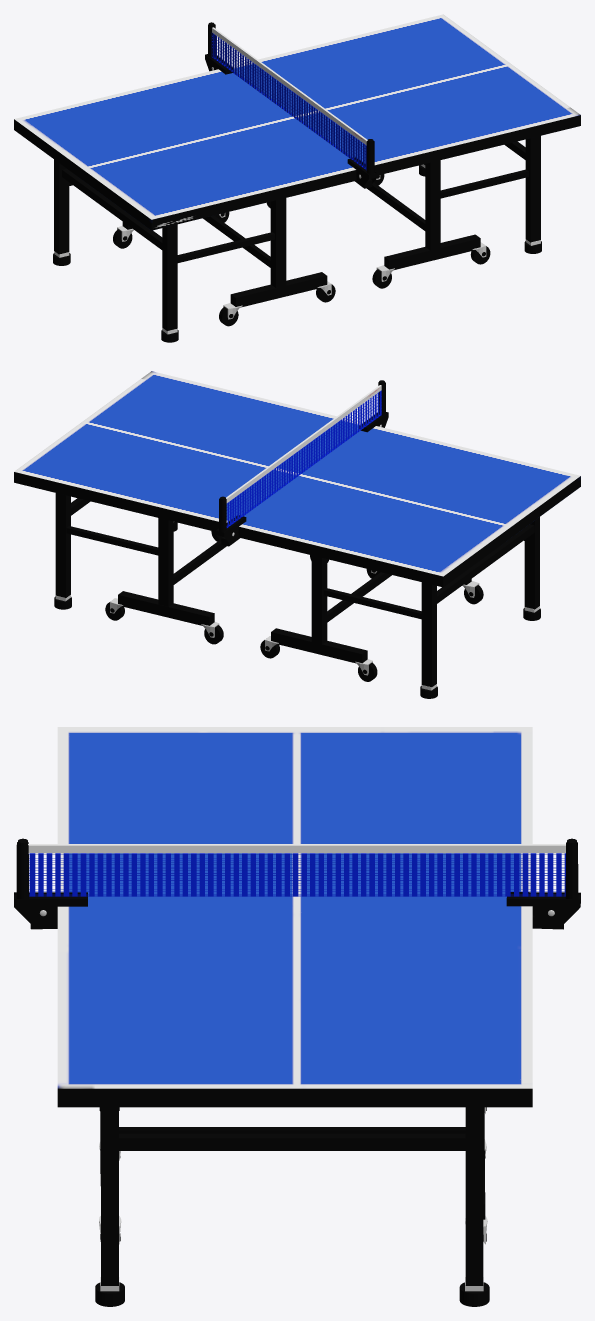
File: Table tennis.fbx
The picture shows the model from 3 angles, top to bottom: view 1: azimuth 30°, elevation 25°; view 2: azimuth 150°, elevation 25°; view 3: azimuth 270°, elevation 25°; orthographic projection. The views are drawn at different scales.
Visible parts, largest first — view 1: 立方体, 立方体.040, 立方体.007, 立方体.005, 立方体.011, 立方体.026, 立方体.010, 立方体.025, 立方体.003, 立方体.029, 立方体.041, 立方体.009 (+3 smaller); view 2: 立方体, 立方体.040, 立方体.003, 立方体.001, 立方体.021, 立方体.016, 立方体.015, 立方体.020, 立方体.007, 立方体.029, 立方体.041, 立方体.014 (+3 smaller); view 3: 立方体, 立方体.040, 立方体.030, 立方体.041, 立方体.001, 立方体.005, 立方体.032, 立方体.036, 立方体.034.
Boxes of the visible parts, <box> form: 立方体: <box>14,14,580,230</box>; 立方体.040: <box>211,33,366,170</box>; 立方体.007: <box>162,224,177,331</box>; 立方体.005: <box>525,135,540,242</box>; 立方体.011: <box>230,272,327,307</box>; 立方体.026: <box>384,234,480,270</box>; 立方体.010: <box>270,198,286,287</box>; 立方体.025: <box>425,160,440,251</box>; 立方体.003: <box>54,159,69,254</box>; 立方体.029: <box>62,168,162,249</box>; 立方体.041: <box>212,27,367,145</box>; 立方体.009: <box>177,232,274,262</box>; 立方体: <box>14,371,580,587</box>; 立方体.040: <box>226,390,381,527</box>; 立方体.003: <box>421,582,436,687</box>; 立方体.001: <box>55,493,70,597</box>; 立方体.021: <box>118,591,214,625</box>; 立方体.016: <box>271,628,367,663</box>; 立方体.015: <box>311,555,327,645</box>; 立方体.020: <box>158,518,173,606</box>; 立方体.007: <box>524,517,539,609</box>; 立方体.029: <box>437,524,534,603</box>; 立方体.041: <box>226,385,381,502</box>; 立方体.014: <box>323,588,421,619</box>; 立方体: <box>57,727,532,1107</box>; 立方体.040: <box>29,853,565,896</box>; 立方体.030: <box>119,1133,465,1150</box>; 立方体.041: <box>28,844,565,853</box>; 立方体.001: <box>465,1107,483,1285</box>; 立方体.005: <box>101,1107,118,1285</box>; 立方体.032: <box>119,1127,465,1133</box>; 立方体.036: <box>506,892,580,925</box>; 立方体.034: <box>14,892,87,925</box>.
Bounding box in the file's own units: 215 × 83.74 × 143.
6 materials, 4 textured.
